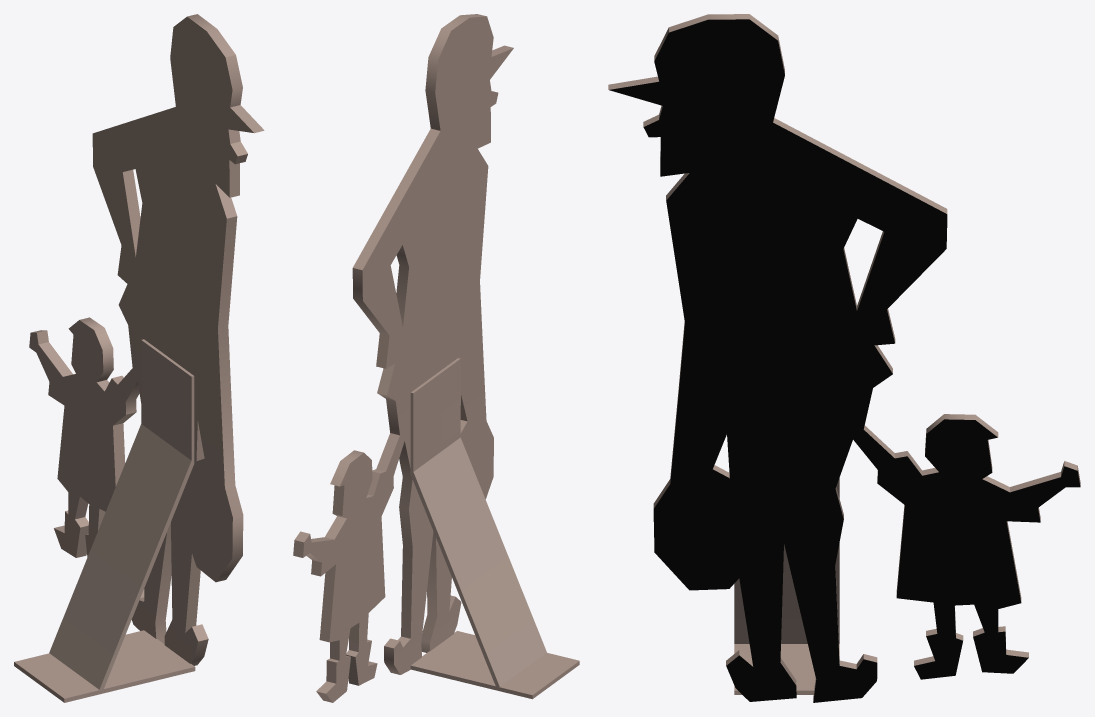
File: Mann med unge 1.FBX
3 views of the same model, side by side, from view 1: azimuth 30°, elevation 25°; view 2: azimuth 150°, elevation 25°; view 3: azimuth 270°, elevation 25° (orthographic). The views are drawn at different scales.
Visible parts, largest first — view 1: Mann med unge 1; view 2: Mann med unge 1; view 3: Mann med unge 1.
Part boxes in pixels (left/top/right/bottom): Mann med unge 1: left=14, top=14, right=264, bottom=702; Mann med unge 1: left=293, top=14, right=579, bottom=702; Mann med unge 1: left=608, top=14, right=1080, bottom=702.
Size of the model in its own units: 40.25 by 179 by 112.
